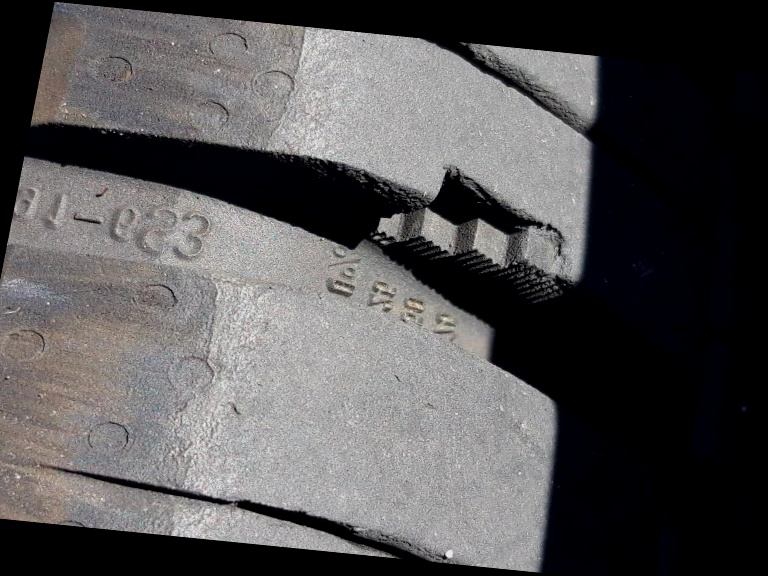temoin:80: (338, 154, 604, 337)
